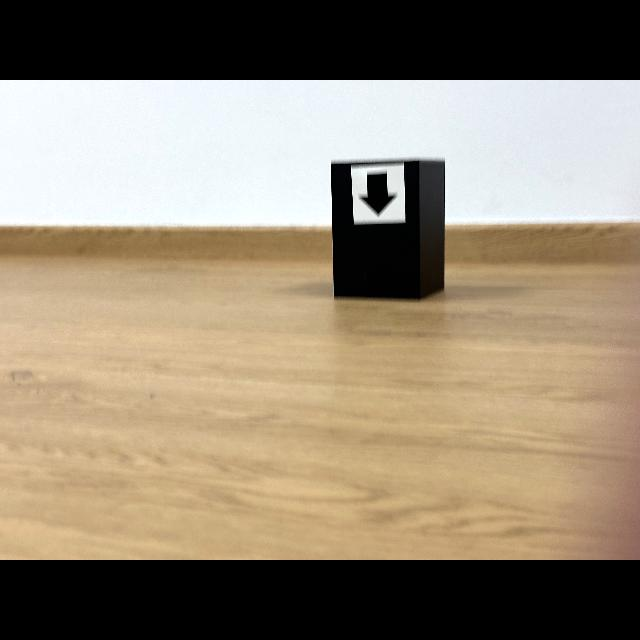DOWN: (361, 172, 395, 215)
